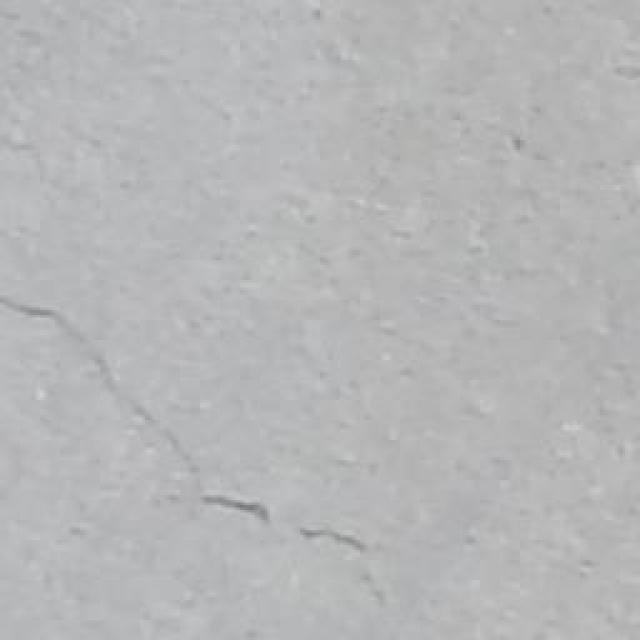concrete-crack: (1, 289, 412, 623)
